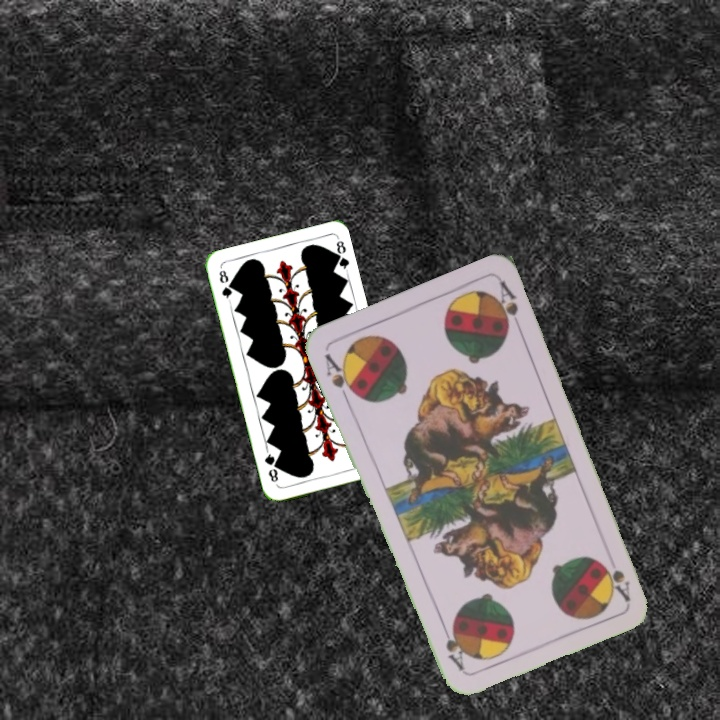G8: (215, 266, 235, 304)
SA: (320, 349, 360, 405), (603, 563, 633, 604)
